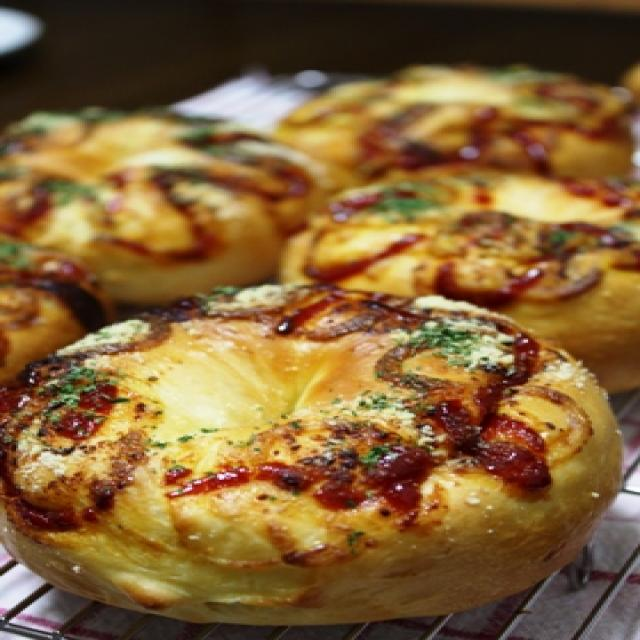三明治: (0, 282, 640, 640)
